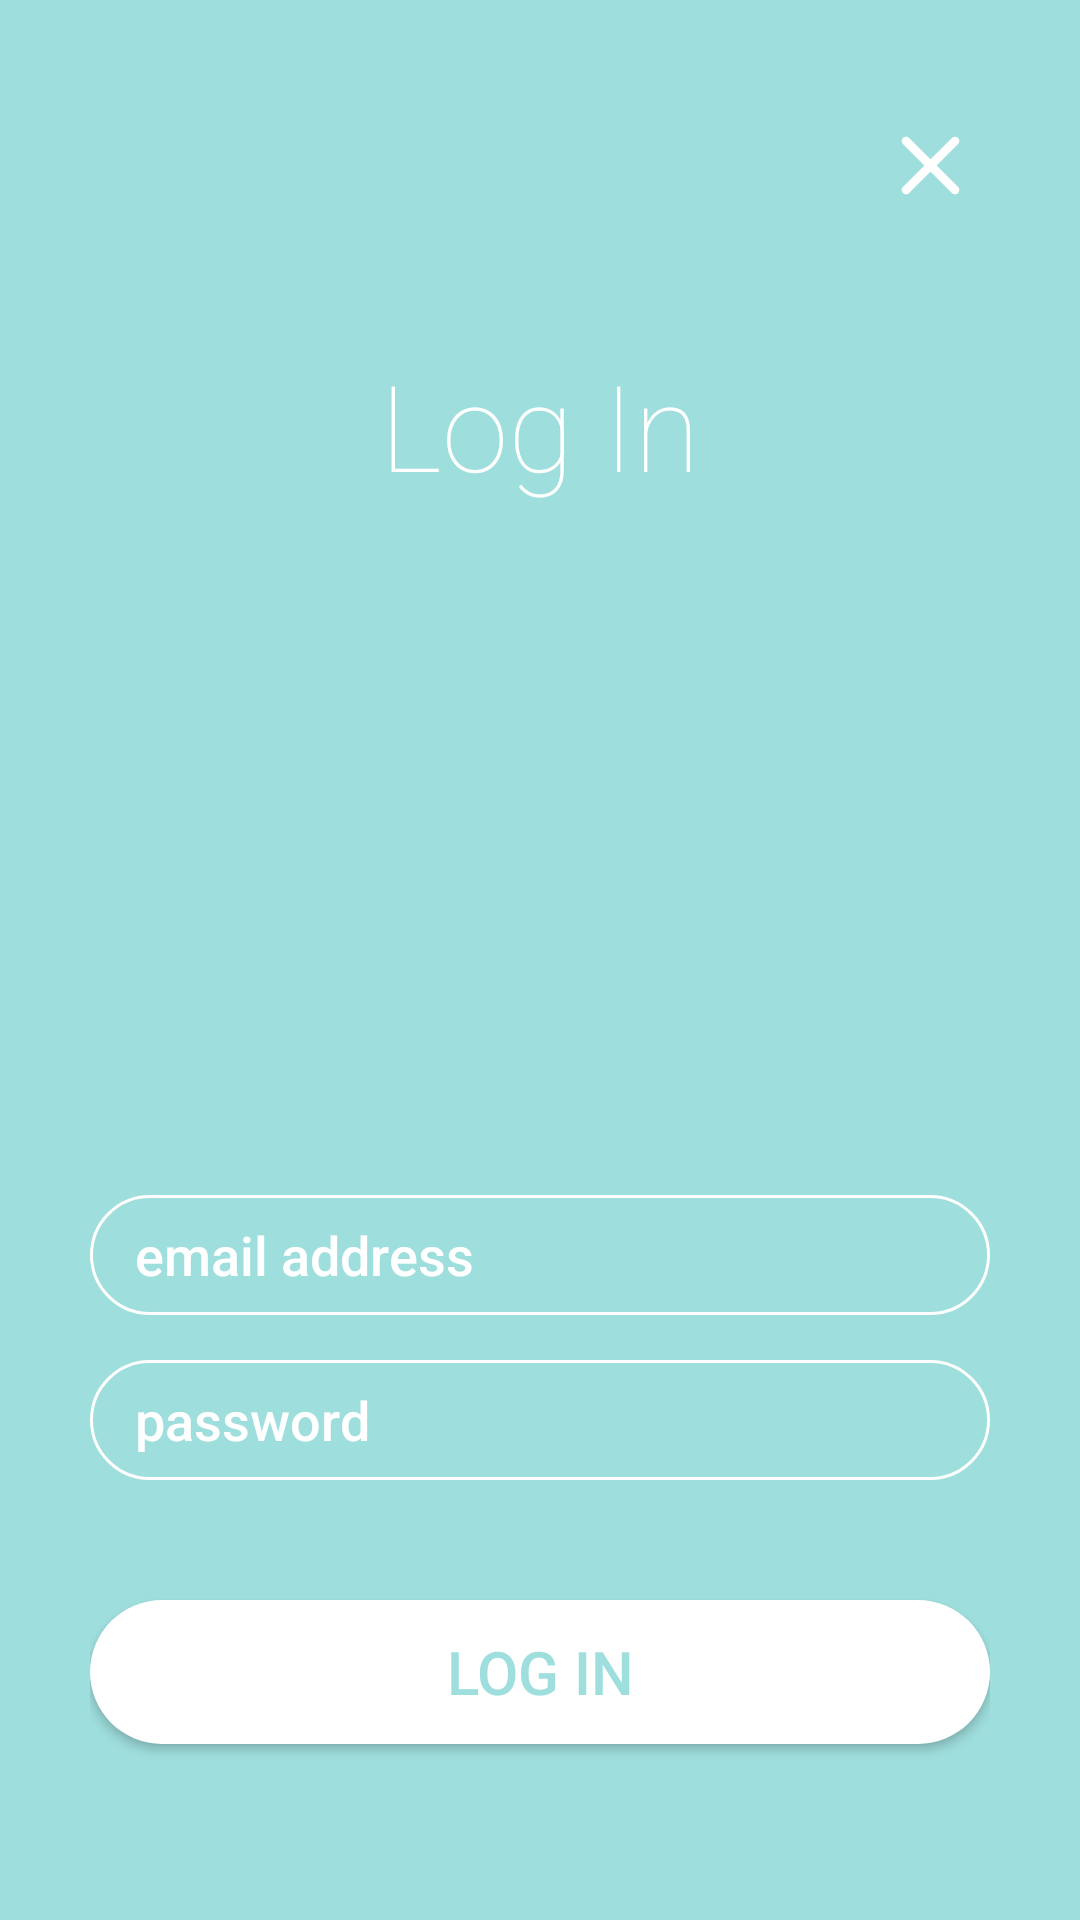

Where icons sit on this 1080×1920 app screen, as [left=x1, top=y1, right=x2, bottom=y2]:
back: [left=902, top=137, right=959, bottom=194]
